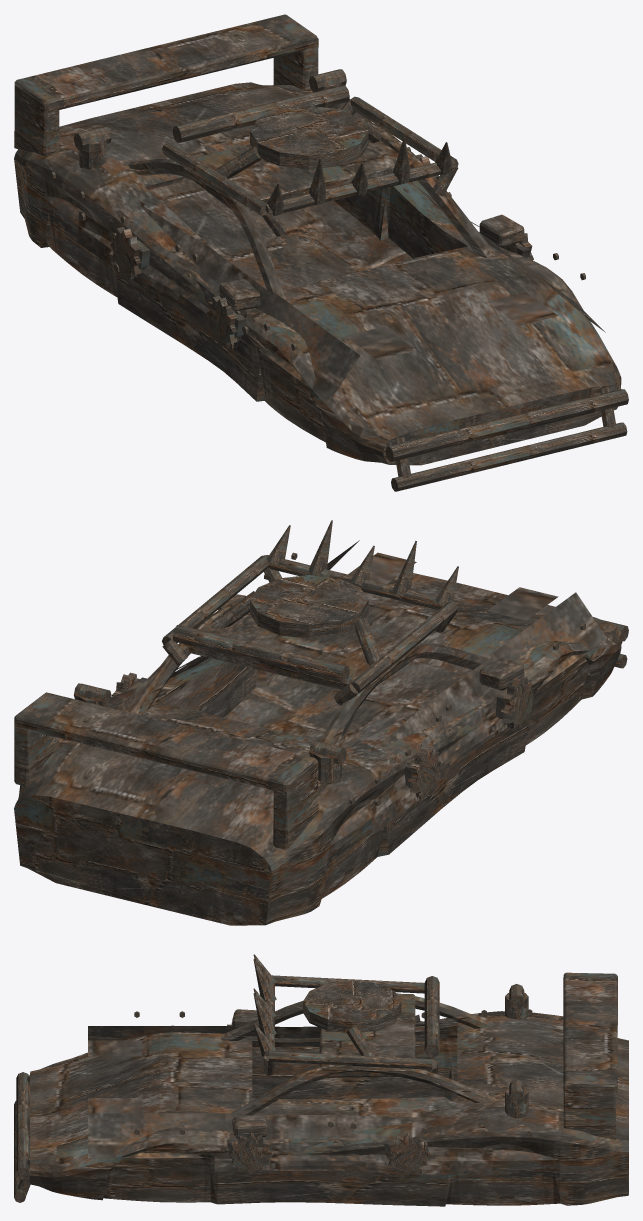
File: falcone_f42.glb
3 views of the same model, one above another, from view 1: azimuth 30°, elevation 25°; view 2: azimuth 150°, elevation 25°; view 3: azimuth 270°, elevation 25° (orthographic). The views are drawn at different scales.
Visible parts, largest first — view 1: kit-full-plating-painted-metal, kit-bull-bar-painted-metal, kit-turret-mount-painted-metal, kit-cage-painted-metal, kit-plate-2-painted-metal, kit-scrapper-painted-metal, warlord-crossbar, kit-raider-painted-metal, kit-crown-painted-metal, kit-saw-0-guard-painted-metal, kit-saw-1-guard-painted-metal, kit-stack-0-painted-metal (+2 smaller); view 2: kit-full-plating-painted-metal, kit-turret-mount-painted-metal, kit-cage-painted-metal, kit-plate-2-painted-metal, kit-scrapper-painted-metal, warlord-crossbar, kit-crown-painted-metal, kit-raider-painted-metal, kit-saw-1-guard-painted-metal, kit-saw-0-guard-painted-metal, kit-stack-0-painted-metal, kit-plate-3-painted-metal (+1 smaller); view 3: kit-full-plating-painted-metal, kit-turret-mount-painted-metal, kit-scrapper-painted-metal, kit-plate-0-painted-metal, kit-cage-painted-metal, kit-raider-painted-metal, kit-bull-bar-painted-metal, kit-plate-2-painted-metal, kit-crown-painted-metal, kit-saw-1-painted-metal, kit-saw-0-painted-metal, warlord-crossbar (+3 smaller).
Part boxes in pixels (x1,y1,x2,y2): kit-full-plating-painted-metal: (14, 14, 621, 465); kit-bull-bar-painted-metal: (385, 387, 628, 491); kit-turret-mount-painted-metal: (215, 105, 381, 178); kit-cage-painted-metal: (162, 96, 458, 236); kit-plate-2-painted-metal: (258, 292, 360, 401); kit-scrapper-painted-metal: (109, 147, 503, 313); warlord-crossbar: (172, 85, 349, 142); kit-raider-painted-metal: (77, 211, 529, 362); kit-crown-painted-metal: (267, 137, 452, 215); kit-saw-0-guard-painted-metal: (110, 227, 150, 279); kit-saw-1-guard-painted-metal: (206, 295, 246, 348); kit-stack-0-painted-metal: (74, 126, 111, 169); kit-full-plating-painted-metal: (14, 552, 622, 925); kit-turret-mount-painted-metal: (210, 575, 380, 665); kit-cage-painted-metal: (162, 555, 458, 705); kit-plate-2-painted-metal: (489, 592, 606, 689); kit-scrapper-painted-metal: (120, 655, 500, 798); warlord-crossbar: (172, 625, 349, 682); kit-crown-painted-metal: (267, 520, 458, 605); kit-raider-painted-metal: (156, 680, 532, 834); kit-saw-1-guard-painted-metal: (495, 676, 533, 728); kit-saw-0-guard-painted-metal: (403, 745, 440, 797); kit-stack-0-painted-metal: (309, 741, 346, 784); kit-plate-3-painted-metal: (327, 747, 405, 847); kit-full-plating-painted-metal: (30, 972, 628, 1206); kit-turret-mount-painted-metal: (303, 980, 401, 1056); kit-scrapper-painted-metal: (227, 1012, 438, 1165); kit-plate-0-painted-metal: (88, 1113, 231, 1158); kit-cage-painted-metal: (263, 975, 437, 1075); kit-raider-painted-metal: (214, 1046, 492, 1174); kit-bull-bar-painted-metal: (14, 1072, 30, 1202); kit-plate-2-painted-metal: (88, 1011, 231, 1040); kit-crown-painted-metal: (253, 954, 276, 1056); kit-saw-1-painted-metal: (227, 1132, 273, 1174); kit-saw-0-painted-metal: (384, 1133, 430, 1175); warlord-crossbar: (424, 976, 439, 1057).
Size of the model in its own units: 2.34 by 1.59 by 4.89.
Materials: 1 (1 with a texture image).
